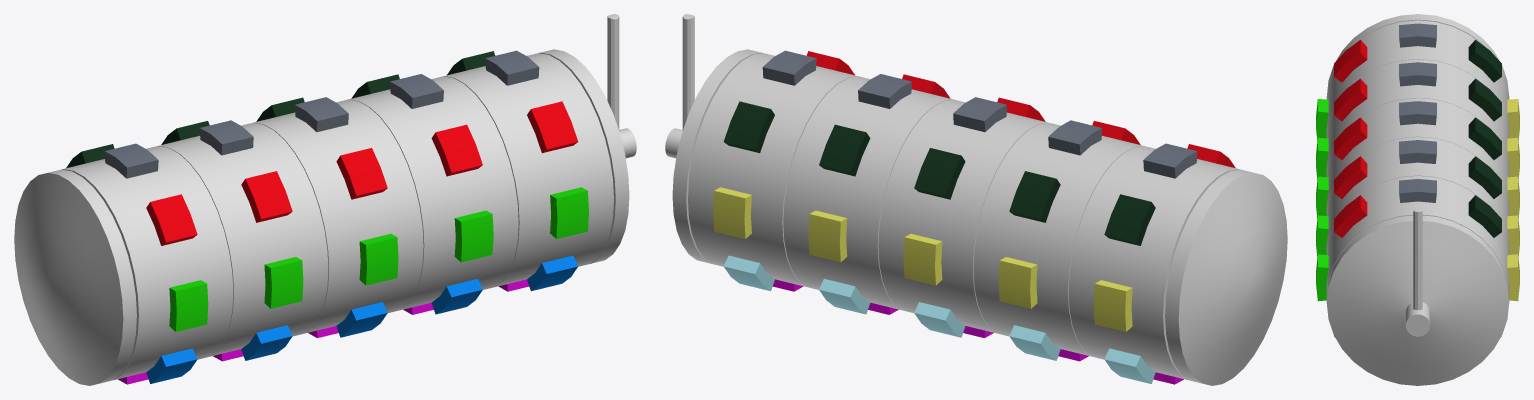
File: roata-new_color.glb
The picture shows the model from 3 angles, left to right: view 1: azimuth 30°, elevation 25°; view 2: azimuth 150°, elevation 25°; view 3: azimuth 270°, elevation 25°; orthographic projection. The views are drawn at different scales.
Visible parts, largest first — view 1: cylinder, roata1, roata5, roata4, roata3, roata2, lever, roata2.002, roata3.002, roata5.002, roata1.002, roata4.002 (+15 smaller); view 2: cylinder, roata1, roata5, roata4, roata3, roata2, lever, roata2.008, roata3.008, roata5.008, roata1.008, roata4.008 (+15 smaller); view 3: lever, roata5, roata4, roata2, roata3, roata1, cylinder, roata1.001, roata2.001, roata3.001, roata4.001, roata5.001 (+20 smaller).
Part boxes in pixels (box(x1,y1,x2,y2)): cylinder: box(14, 169, 136, 385); roata1: box(61, 146, 233, 380); roata5: box(444, 53, 613, 286); roata4: box(348, 76, 518, 310); roata3: box(253, 99, 423, 333); roata2: box(158, 123, 328, 356); lever: box(539, 14, 636, 263); roata2.002: box(241, 171, 292, 222); roata3.002: box(336, 148, 387, 199); roata5.002: box(527, 101, 578, 153); roata1.002: box(146, 194, 197, 245); roata4.002: box(431, 124, 482, 176); cylinder: box(1165, 169, 1287, 385); roata1: box(1068, 146, 1240, 380); roata5: box(688, 53, 857, 286); roata4: box(783, 76, 953, 310); roata3: box(878, 99, 1048, 333); roata2: box(973, 123, 1143, 356); lever: box(665, 14, 762, 263); roata2.008: box(1009, 171, 1060, 222); roata3.008: box(914, 148, 965, 199); roata5.008: box(723, 101, 774, 153); roata1.008: box(1104, 194, 1155, 245); roata4.008: box(819, 124, 870, 176); lever: box(1326, 208, 1509, 385); roata5: box(1326, 176, 1509, 296); roata4: box(1326, 137, 1509, 254); roata2: box(1326, 59, 1509, 176); roata3: box(1326, 98, 1509, 215); roata1: box(1326, 20, 1509, 137); cylinder: box(1326, 14, 1509, 99); roata1.001: box(1399, 23, 1436, 47); roata2.001: box(1399, 62, 1436, 86); roata3.001: box(1399, 101, 1436, 125); roata4.001: box(1399, 140, 1436, 163); roata5.001: box(1399, 179, 1436, 202).
Bounding box in the file's own units: 6.17 × 2.44 × 2.24.
